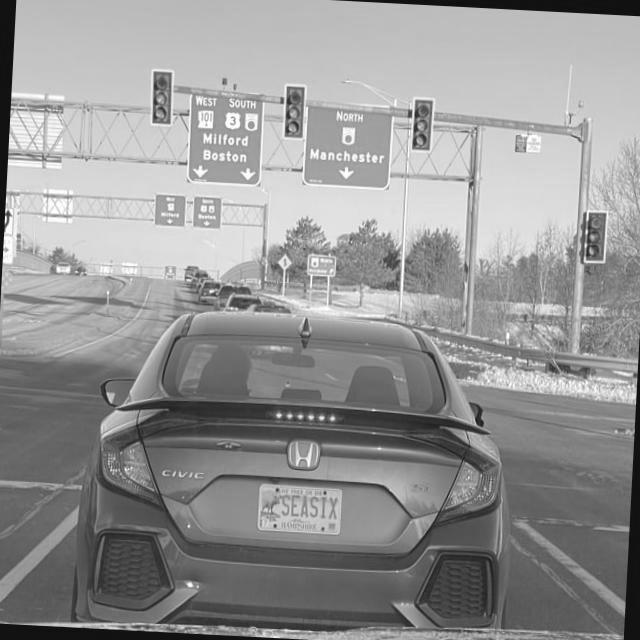LicensePlate: (257, 484, 342, 535)
